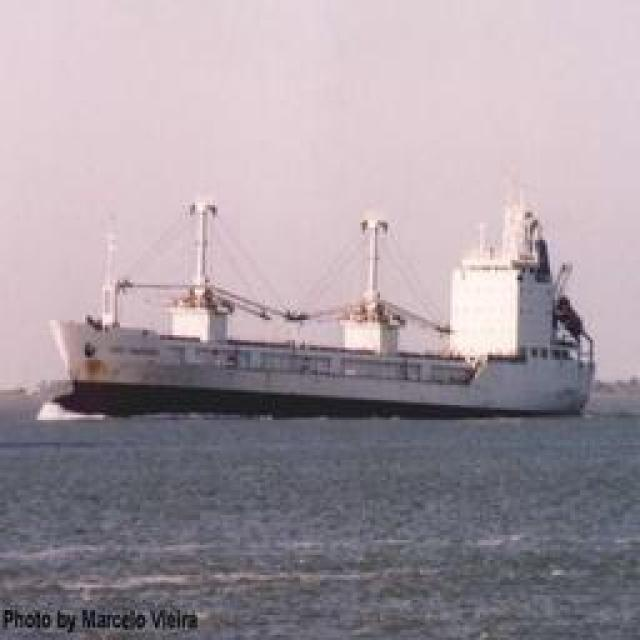ship2: (48, 194, 597, 422)
